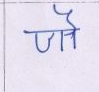au_matra: (61, 4, 82, 49)
